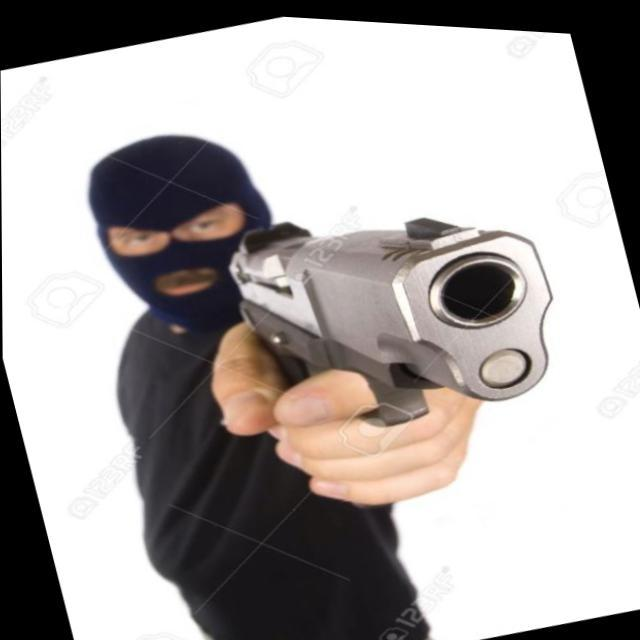weapon: (216, 155, 577, 460)
